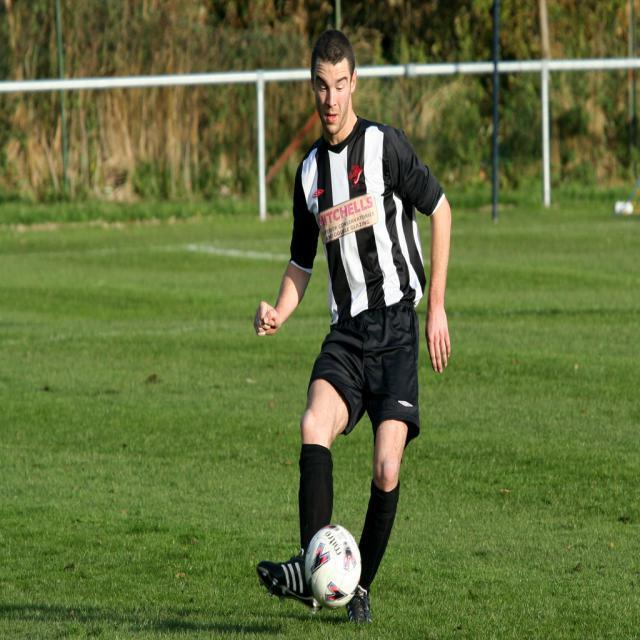football: (290, 516, 377, 617)
